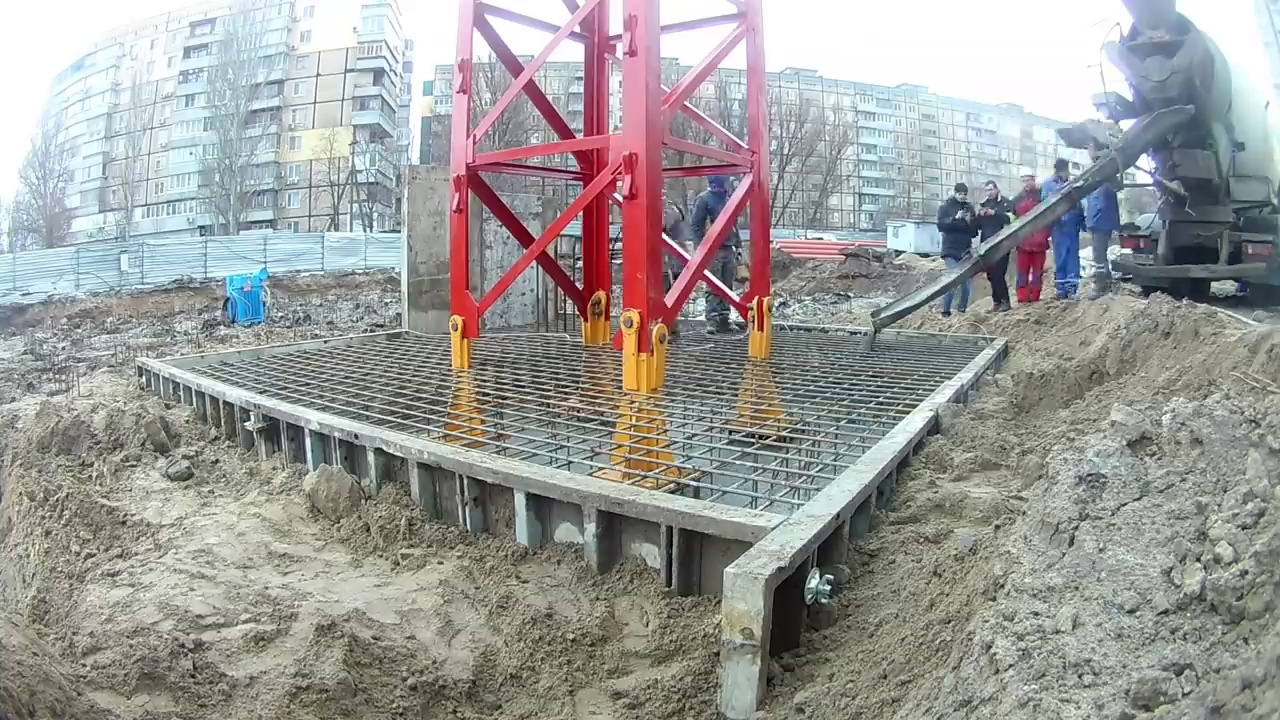helmet: (1020, 167, 1038, 179)
helmet-off: (704, 170, 728, 200), (1052, 159, 1075, 189), (1085, 140, 1106, 166), (982, 180, 1002, 205), (952, 182, 968, 205)
helmet-on: (1019, 165, 1038, 193)
person: (689, 171, 742, 335), (1009, 166, 1054, 310), (1085, 140, 1125, 297), (935, 182, 978, 318), (1048, 159, 1085, 300), (979, 180, 1015, 310), (660, 183, 688, 337)
